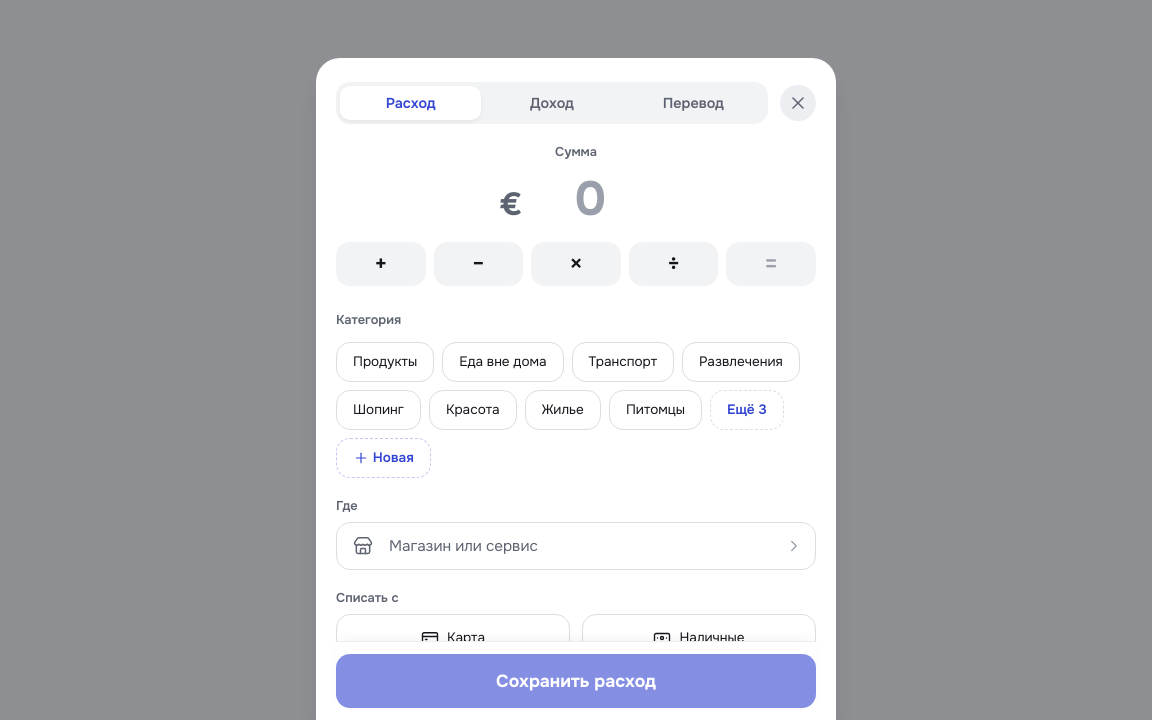
it: AddTransactionForm Component › labels a new expense dialog «Новый расход» and saves with a typed button label
Check: the dialog named "Новый расход" is shown, box [316,58,836,719]
Check: the button "Сохранить расход" is shown, box [336,654,816,708]
Step 1. Click the button "Доход" → (552, 103), box [481,86,623,120]
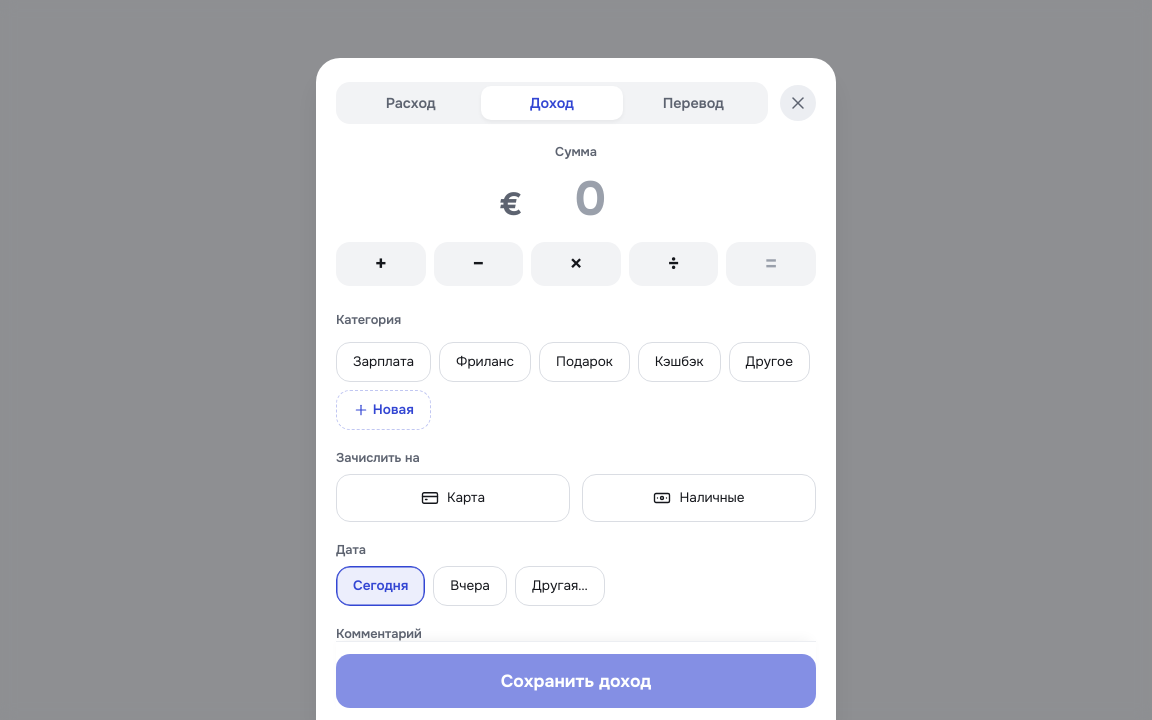
Check: the button "Сохранить доход" is shown, box [336,654,816,708]
Step 2. Click the button "Перевод" → (693, 103), box [623,86,764,120]
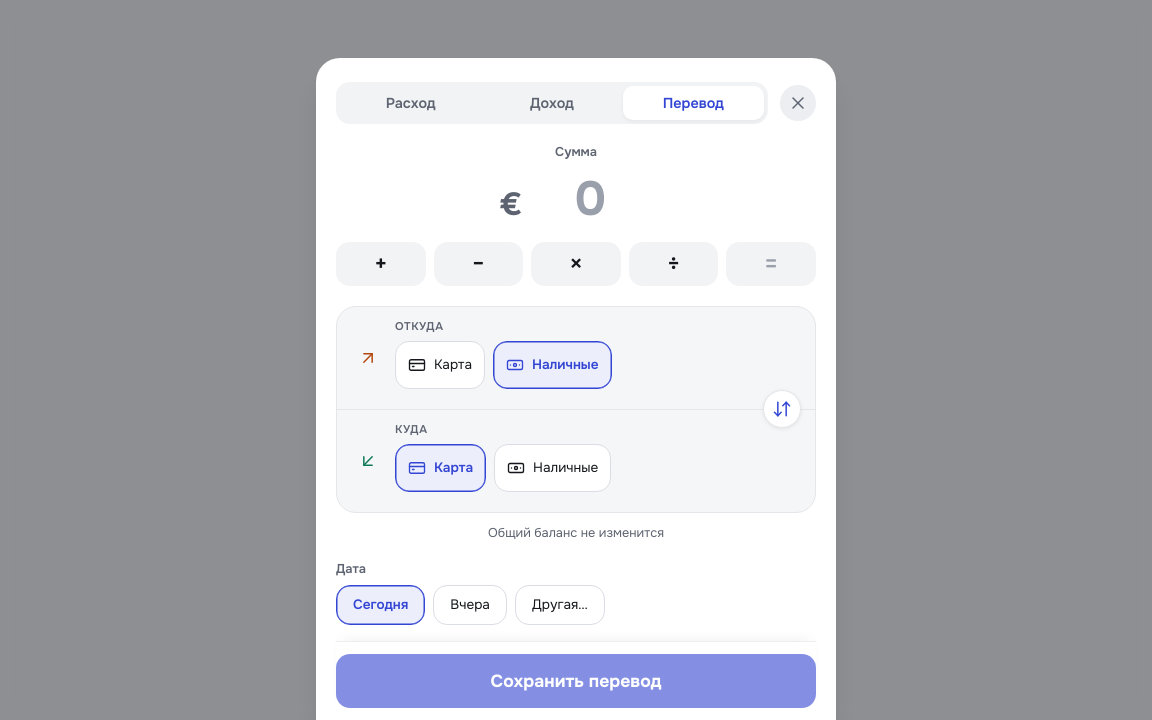
Check: the button "Сохранить перевод" is shown, box [336,654,816,708]
